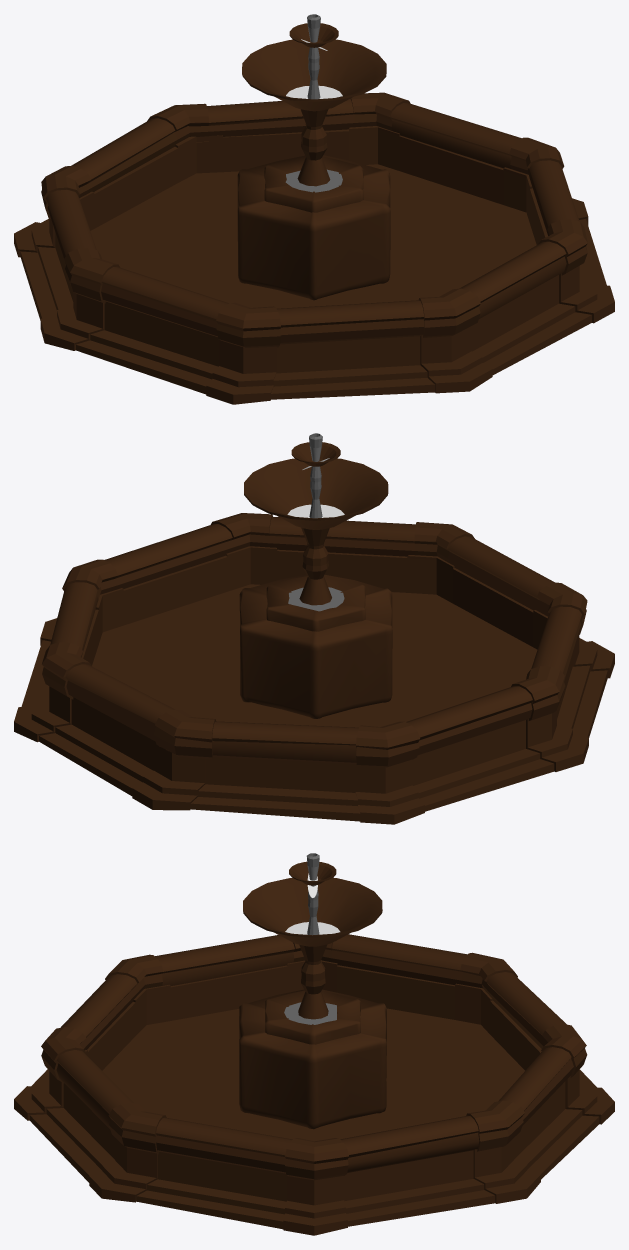
Rendered from fountain.fbx.
The picture shows the model from 3 angles, top to bottom: view 1: azimuth 30°, elevation 25°; view 2: azimuth 150°, elevation 25°; view 3: azimuth 270°, elevation 25°; orthographic projection. The views are drawn at different scales.
Visible parts, largest first — view 1: hegth005; view 2: hegth005; view 3: hegth005.
Boxes of the visible parts, box(x1,y1,x2,y2) form: hegth005: box(14, 14, 614, 404); hegth005: box(14, 433, 614, 824); hegth005: box(14, 853, 614, 1235).
Size of the model in its own units: 6.28 by 2.93 by 6.28.
